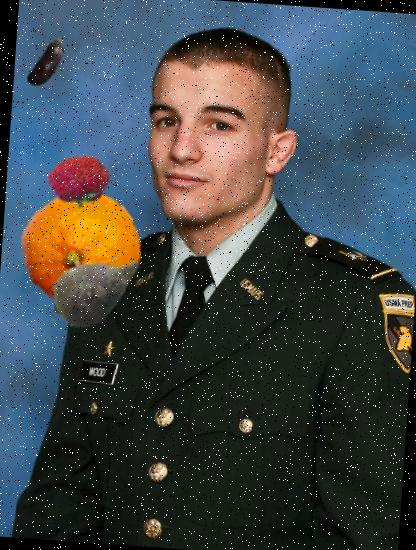Beetroot: (35, 232, 150, 346)
Eggplant: (17, 30, 80, 94)
Lemon: (18, 186, 146, 313)
Strawberry: (45, 148, 113, 216)
